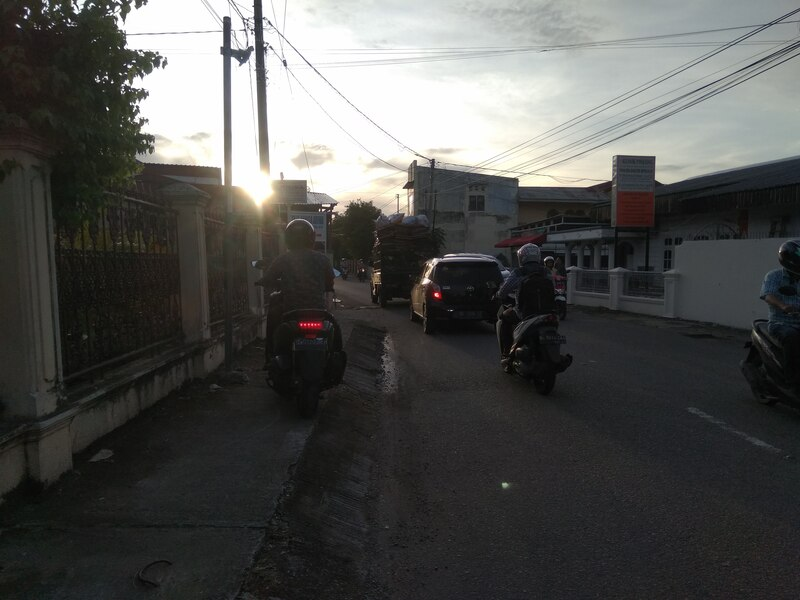car: (407, 250, 513, 338), (369, 243, 443, 311)
motorcycle: (247, 256, 355, 424), (487, 278, 576, 404), (739, 314, 800, 425)
